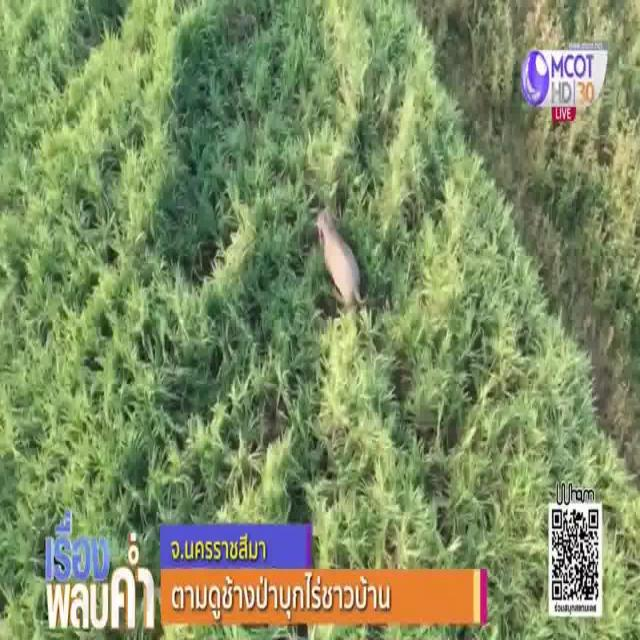Elephant: (314, 207, 368, 305)
